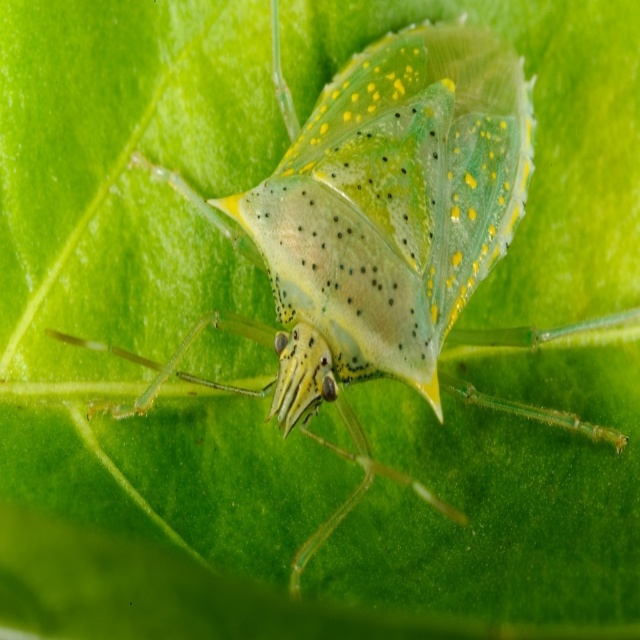Moths and butterflies: (42, 0, 640, 606)
